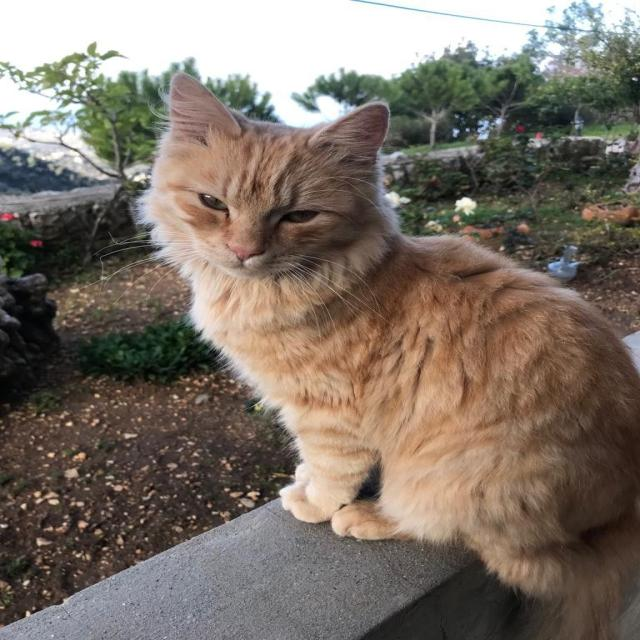sarman: (40, 84, 640, 605)
